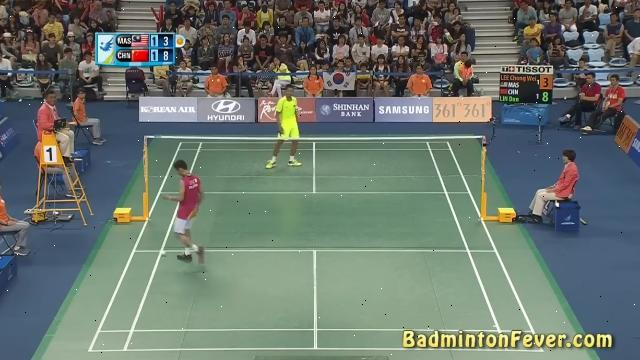Shuttlecock: (157, 248, 167, 256)
